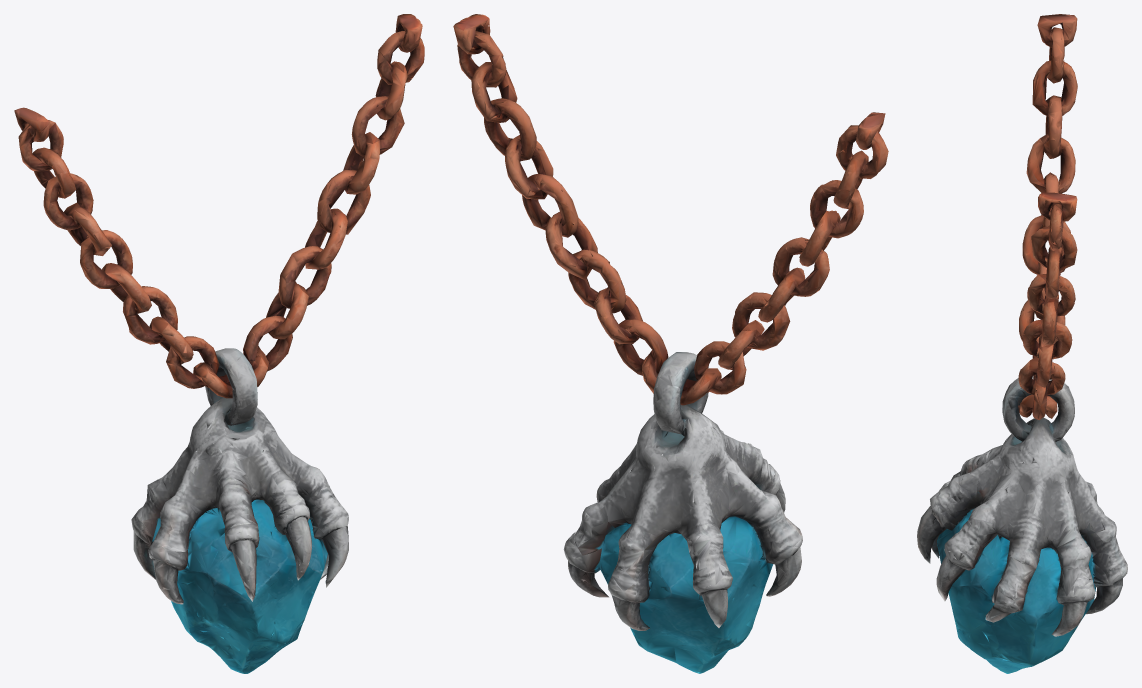
Rendered from eq_necklace.glb.
3 renders of one model, left to right at view 1: azimuth 30°, elevation 25°; view 2: azimuth 150°, elevation 25°; view 3: azimuth 270°, elevation 25°, orthographic. The views are drawn at different scales.
Parts seen in each view (by area): view 1: tripo_node_2f0cd37a-c4e8-4031-8ad9-0c679a414edf; view 2: tripo_node_2f0cd37a-c4e8-4031-8ad9-0c679a414edf; view 3: tripo_node_2f0cd37a-c4e8-4031-8ad9-0c679a414edf.
Boxes of the visible parts, bbox=[...] form: tripo_node_2f0cd37a-c4e8-4031-8ad9-0c679a414edf: bbox=[14, 14, 424, 673]; tripo_node_2f0cd37a-c4e8-4031-8ad9-0c679a414edf: bbox=[453, 14, 888, 673]; tripo_node_2f0cd37a-c4e8-4031-8ad9-0c679a414edf: bbox=[917, 14, 1127, 673].
Size of the model in its own units: 0.2167 by 0.3 by 0.1012.
1 material, 1 textured.
